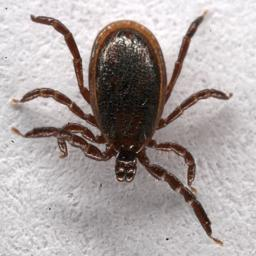Ixodes scapularis: (11, 11, 235, 246)
